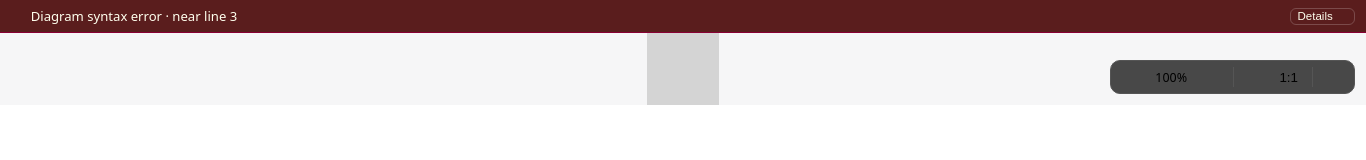
Scenario: preview › reveals raw detail when the details toggle is clicked
The image size is (1366, 160).
Click the button with class "error-toggle" at (1322,16), box [1290,8,1355,25]
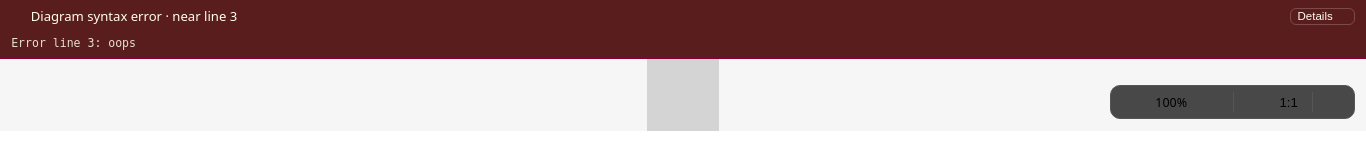
Check: the text with class "error-detail" shows "oops", box [11,36,136,50]
